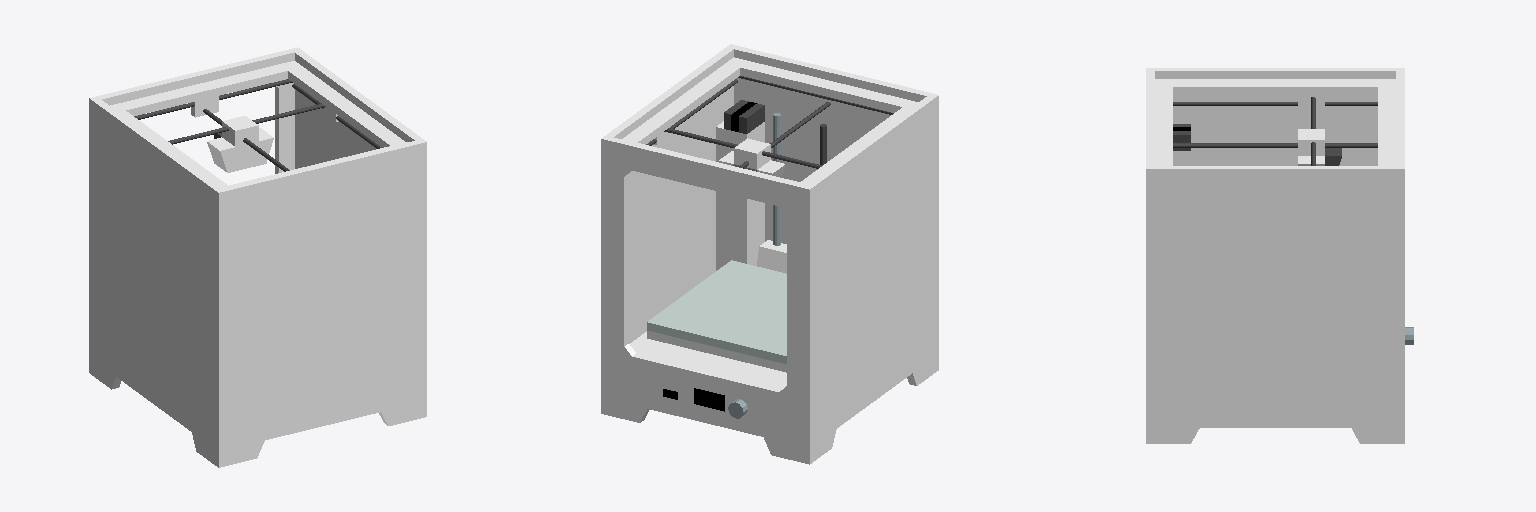
3 views of the same model, side by side, from view 1: azimuth 30°, elevation 25°; view 2: azimuth 150°, elevation 25°; view 3: azimuth 270°, elevation 25° (orthographic).
Parts seen in each view (by area): view 1: group[number redacted], group[number redacted], group[number redacted], group[number redacted], group[number redacted], group[number redacted], group[number redacted], group[number redacted], group[number redacted], group[number redacted], group[number redacted], group[number redacted] (+5 smaller); view 2: group[number redacted], group[number redacted], group[number redacted], group[number redacted], group[number redacted], group[number redacted], group[number redacted], group[number redacted], group[number redacted], group[number redacted], group[number redacted], group[number redacted] (+12 smaller); view 3: group[number redacted], group[number redacted], group[number redacted], group[number redacted], group[number redacted], group[number redacted], group[number redacted], group[number redacted], group[number redacted], group[number redacted], group[number redacted], group[number redacted] (+3 smaller).
Part boxes in pixels (x1,y1,x2,y2): group[number redacted]: (226,160,419,408); group[number redacted]: (89,115,225,410); group[number redacted]: (94,321,426,451); group[number redacted]: (295,89,426,361); group[number redacted]: (214,139,426,208); group[number redacted]: (94,100,220,204); group[number redacted]: (118,64,287,115); group[number redacted]: (89,47,301,117); group[number redacted]: (279,61,406,147); group[number redacted]: (207,116,273,172); group[number redacted]: (295,51,421,141); group[number redacted]: (275,83,294,173); group[number redacted]: (802,112,938,407); group[number redacted]: (601,86,733,358); group[number redacted]: (647,240,786,372); group[number redacted]: (601,357,813,447); group[number redacted]: (630,314,938,444); group[number redacted]: (734,78,890,243); group[number redacted]: (601,136,813,205); group[number redacted]: (716,121,764,270); group[number redacted]: (609,157,628,362); group[number redacted]: (787,200,801,405); group[number redacted]: (807,96,934,201); group[number redacted]: (740,61,910,112); group[number redacted]: (1146,186,1404,387); group[number redacted]: (1173,95,1377,165); group[number redacted]: (1146,388,1395,427); group[number redacted]: (1155,166,1395,185); group[number redacted]: (1155,79,1395,94); group[number redacted]: (1155,68,1395,78); group[number redacted]: (1378,87,1395,165); group[number redacted]: (1155,87,1172,165); group[number redacted]: (1298,129,1341,165); group[number redacted]: (1146,68,1154,185); group[number redacted]: (1396,68,1404,185); group[number redacted]: (1173,143,1377,147).
Bounding box in the file's own units: 0.27 × 0.34 × 0.3.